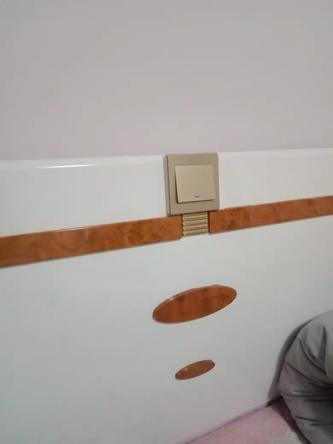switch: (178, 168, 219, 200)
